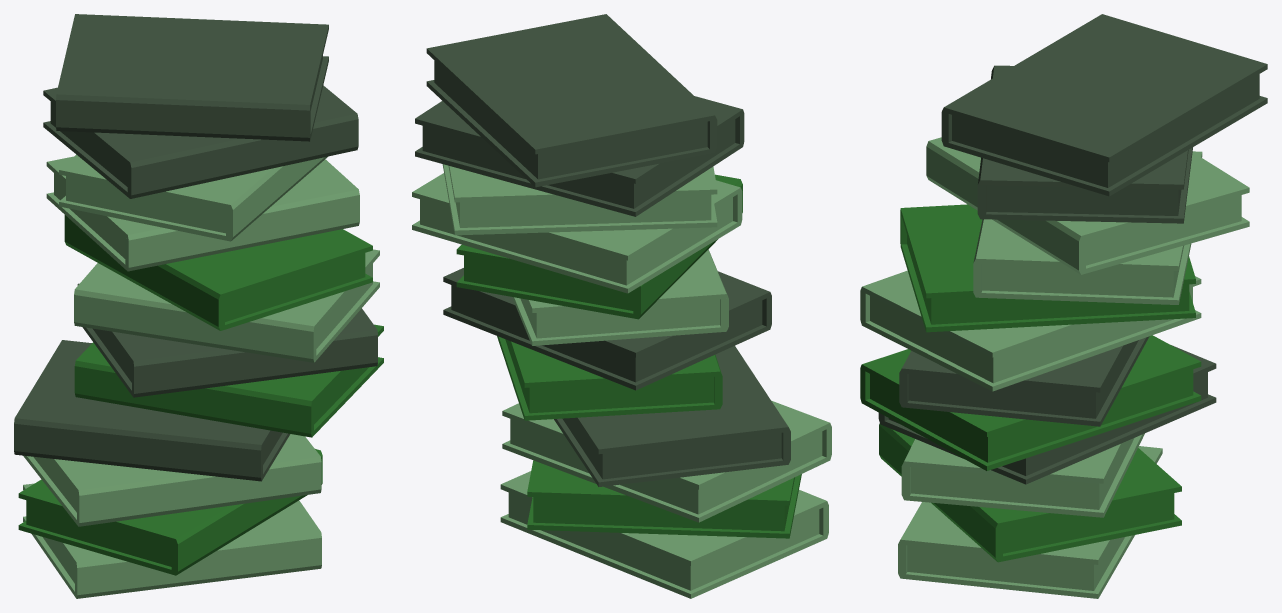
Rendered from Bookstack2_Mesh.fbx.
3 renders of one model, left to right at view 1: azimuth 30°, elevation 25°; view 2: azimuth 150°, elevation 25°; view 3: azimuth 270°, elevation 25°, orthographic. The views are drawn at different scales.
Parts seen in each view (by area): view 1: bookstack2; view 2: bookstack2; view 3: bookstack2.
Part boxes in pixels (<box>): bookstack2: <box>14,14,383,598</box>; bookstack2: <box>412,14,831,598</box>; bookstack2: <box>860,14,1267,598</box>.
Size of the model in its own units: 77.92 by 99.26 by 77.05.
